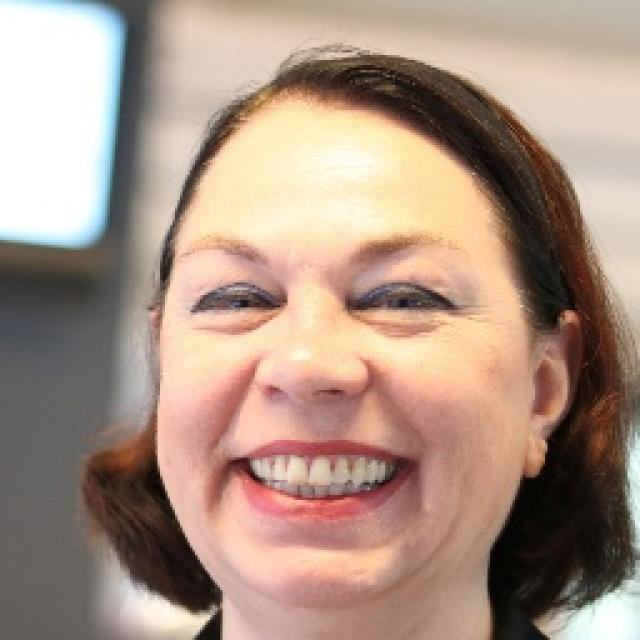earlobe: (523, 310, 585, 478)
